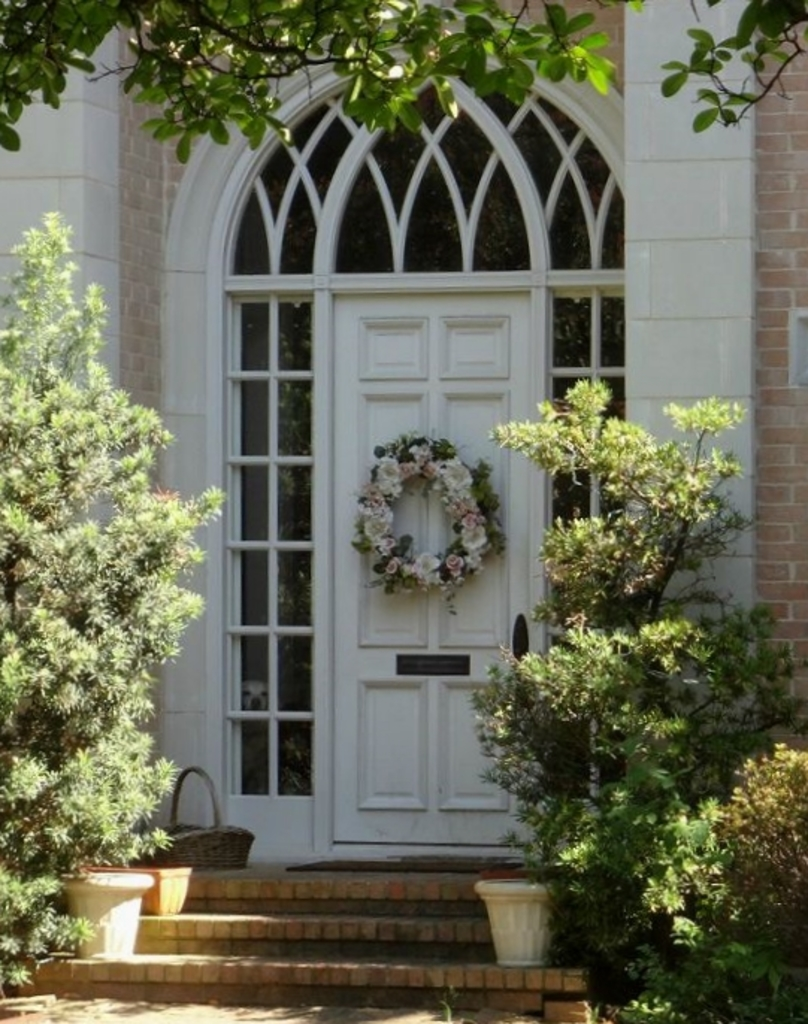Tree: (0, 0, 808, 152)
